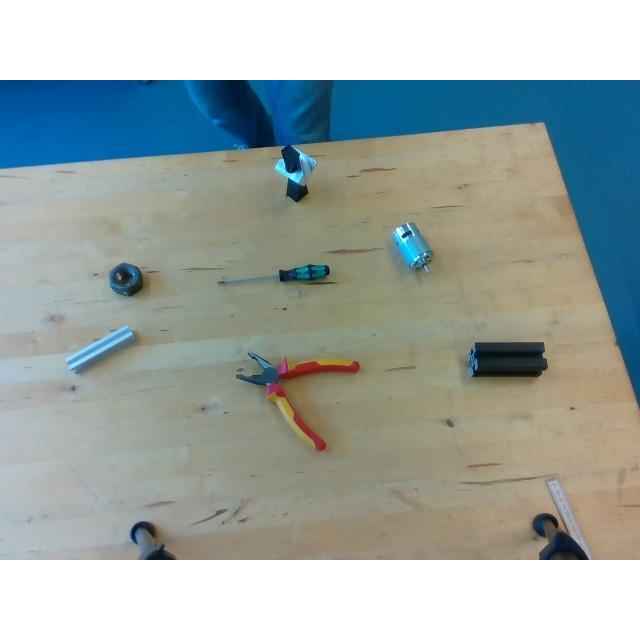F20_20_G: (64, 324, 136, 372)
M30: (110, 262, 142, 294)
Motor2: (394, 222, 434, 270)
S40_40_B: (469, 341, 546, 375)
Screwdriver: (217, 263, 331, 289)
